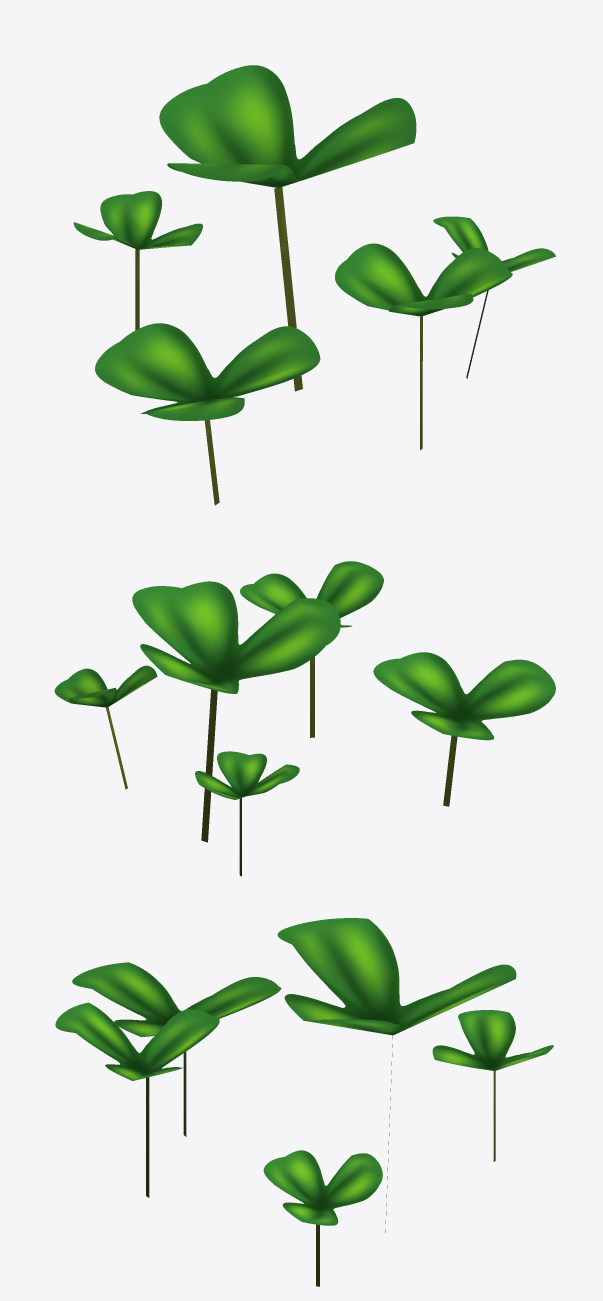
File: SM_Clover.fbx
3 renders of one model, top to bottom at view 1: azimuth 30°, elevation 25°; view 2: azimuth 150°, elevation 25°; view 3: azimuth 270°, elevation 25°, orthographic. The views are drawn at different scales.
Parts seen in each view (by area): view 1: SM_Clover; view 2: SM_Clover; view 3: SM_Clover.
Boxes of the visible parts, x1,y1,x2,y2 form: SM_Clover: (73, 65, 555, 505); SM_Clover: (54, 561, 555, 876); SM_Clover: (55, 918, 553, 1286).
Bounding box in the file's own units: 33.93 × 16.05 × 30.32.
